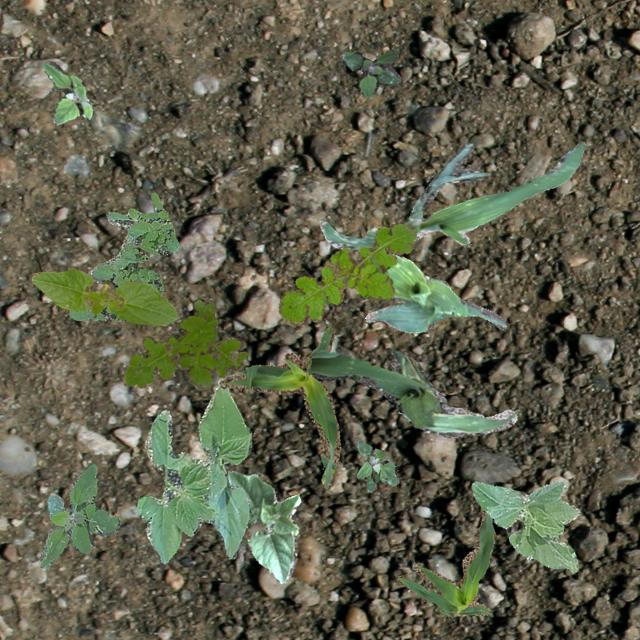crop: (318, 140, 586, 250), (136, 377, 250, 562), (218, 326, 338, 488), (309, 348, 516, 436), (364, 254, 506, 332), (396, 508, 494, 618), (471, 480, 578, 570), (30, 268, 176, 326), (227, 470, 300, 582)
weed: (68, 192, 178, 321), (278, 222, 414, 326), (121, 298, 246, 388), (39, 462, 120, 566), (42, 60, 92, 124), (342, 48, 399, 96), (356, 439, 396, 492)
